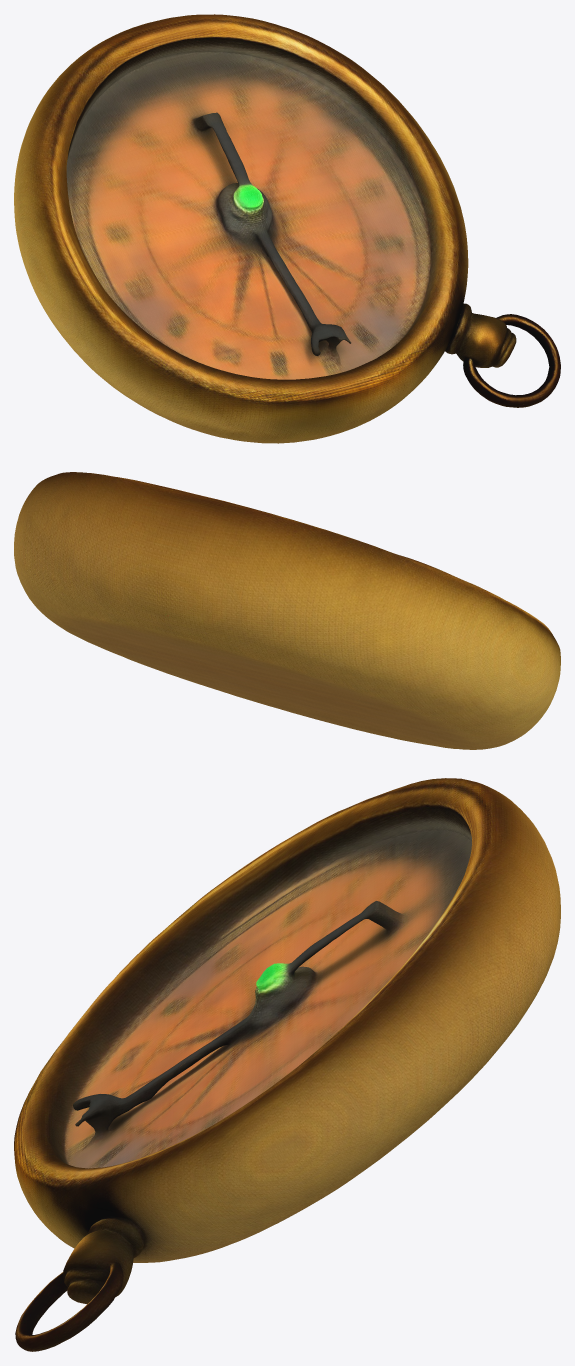
The model's file is compass.glb.
3 renders of one model, top to bottom at view 1: azimuth 30°, elevation 25°; view 2: azimuth 150°, elevation 25°; view 3: azimuth 270°, elevation 25°, orthographic. The views are drawn at different scales.
Parts seen in each view (by area): view 1: Mesh; view 2: Mesh; view 3: Mesh.
Part boxes in pixels (<box>): Mesh: <box>14,14,560,443</box>; Mesh: <box>14,472,560,749</box>; Mesh: <box>14,778,560,1351</box>.
Bounding box in the file's own units: 1.9 × 1.25 × 1.56.
Materials: 1 (1 with a texture image).
